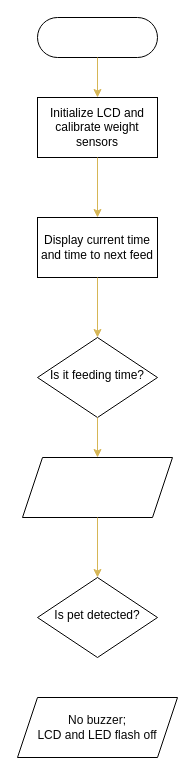
This 195x775 diagram has some shape labels left out. The box of each missing label's shape, as (x1, y1, x2, y2) in pixels:
Buzzer; flash LCD and LED;: (22, 456, 172, 518)
Start: (36, 16, 158, 58)
